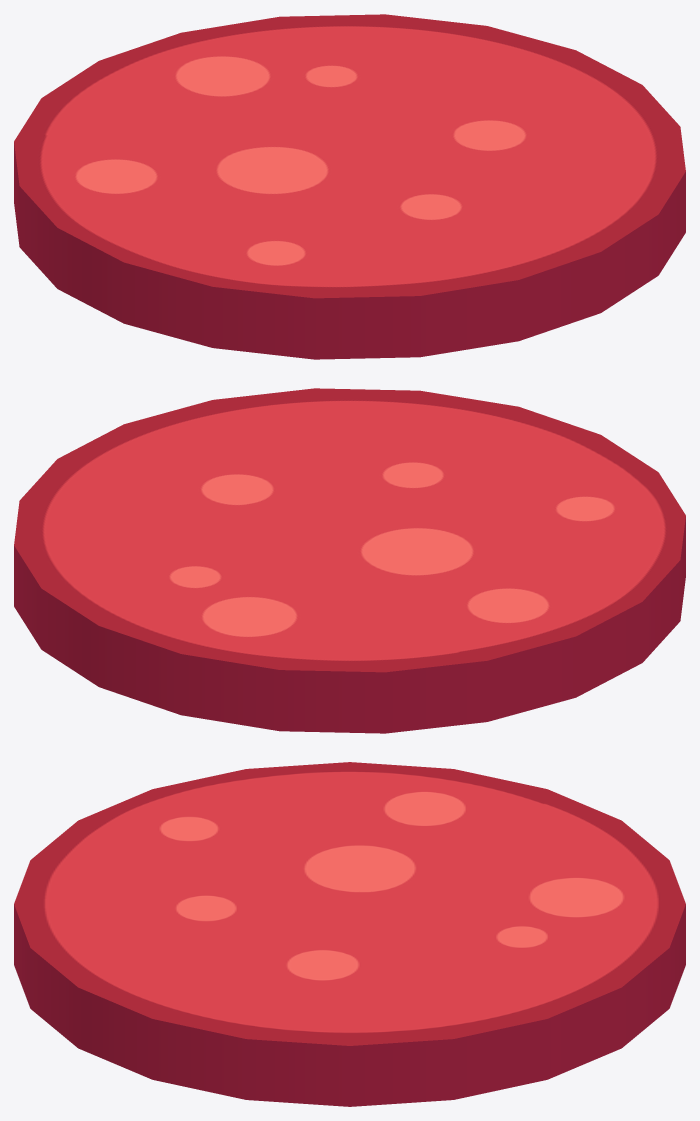
File: Salami_Slice_Salami_0.glb
The picture shows the model from 3 angles, top to bottom: view 1: azimuth 30°, elevation 25°; view 2: azimuth 150°, elevation 25°; view 3: azimuth 270°, elevation 25°; orthographic projection.
Visible parts, largest first — view 1: Salami_Slice_Salami_0; view 2: Salami_Slice_Salami_0; view 3: Salami_Slice_Salami_0.
Part boxes in pixels (<box>): Salami_Slice_Salami_0: <box>14,14,685,359</box>; Salami_Slice_Salami_0: <box>14,388,685,733</box>; Salami_Slice_Salami_0: <box>14,762,685,1106</box>.
Size of the model in its own units: 0.1 by 0.01 by 0.1.
Materials: 1 (1 with a texture image).
